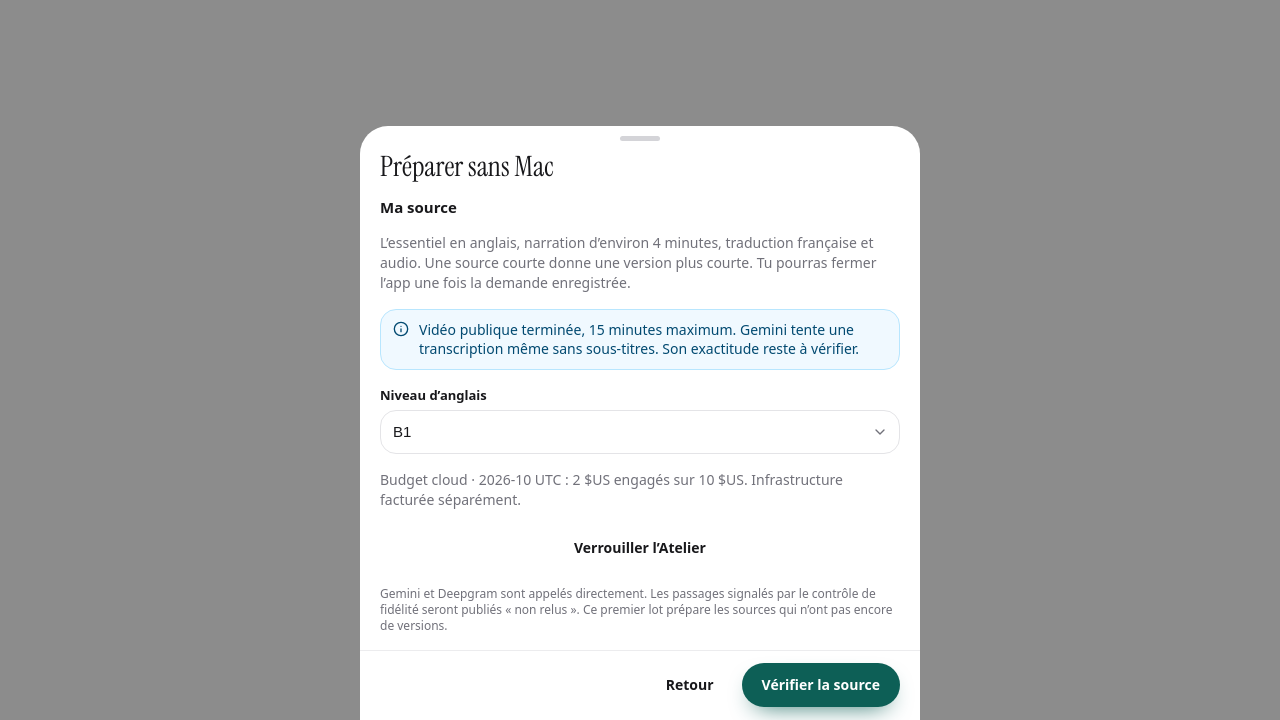
Test case: permet de verrouiller la session propriétaire
Click the button "Verrouiller l’Atelier". click: (640,547)
box: [380, 525, 900, 569]
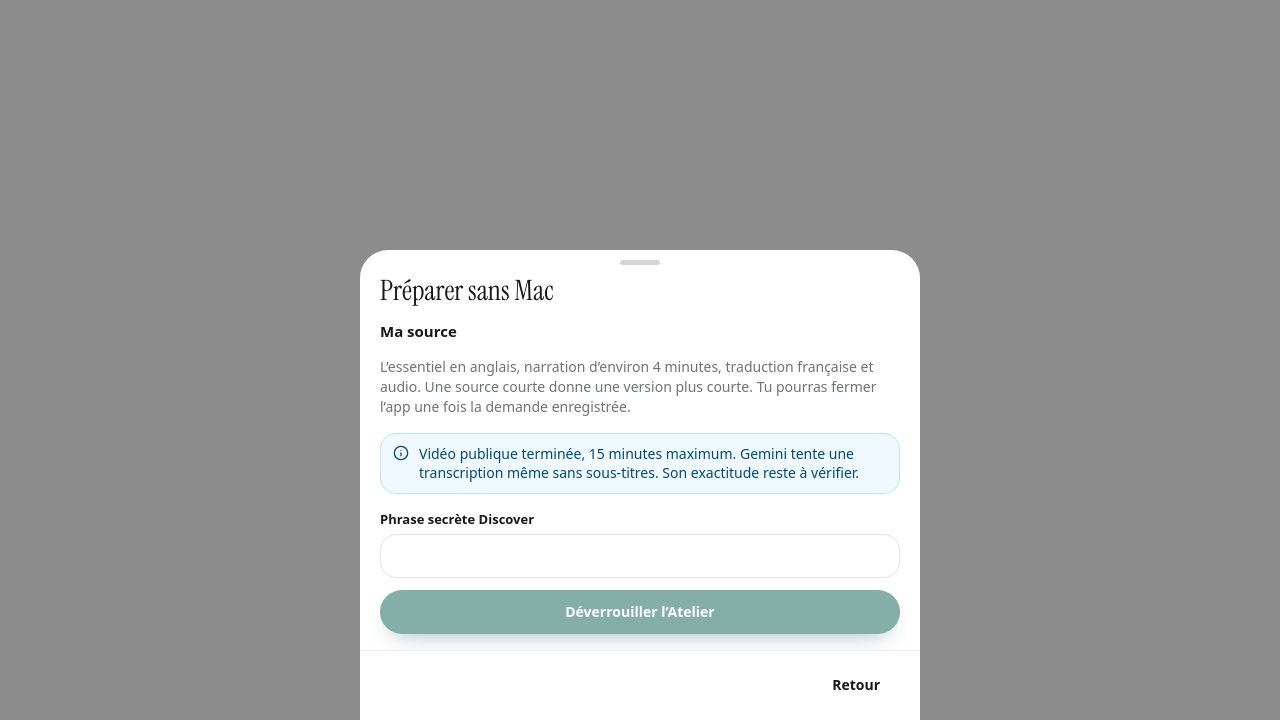
Check: the password field labelled "Phrase secrète Discover" is shown, box [380, 533, 900, 577]
